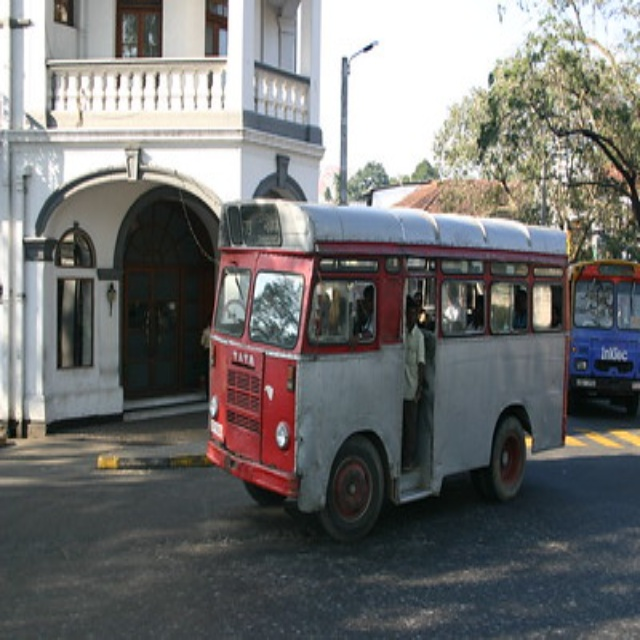Bus: (206, 201, 568, 544), (565, 256, 640, 412)
